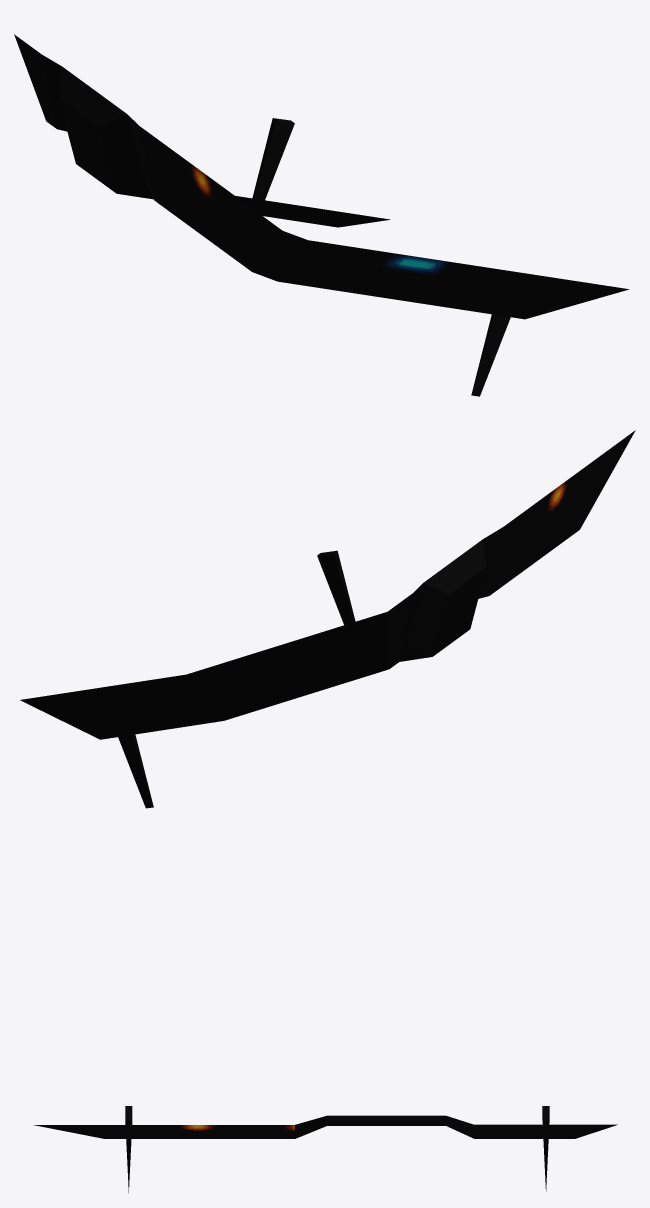
File: hangar_hgn_battlecruiser_01_basic_01_right.glb
3 renders of one model, top to bottom at view 1: azimuth 30°, elevation 25°; view 2: azimuth 150°, elevation 25°; view 3: azimuth 270°, elevation 25°, orthographic. The views are drawn at different scales.
Parts seen in each view (by area): view 1: hgn_t1_flagship_battlecruiser_hangar_s_r_01; view 2: hgn_t1_flagship_battlecruiser_hangar_s_r_01; view 3: hgn_t1_flagship_battlecruiser_hangar_s_r_01.
Part boxes in pixels (<box>): hgn_t1_flagship_battlecruiser_hangar_s_r_01: <box>14,34,628,396</box>; hgn_t1_flagship_battlecruiser_hangar_s_r_01: <box>20,430,635,808</box>; hgn_t1_flagship_battlecruiser_hangar_s_r_01: <box>34,1106,617,1192</box>.
Bounding box in the file's own units: 0.7179 × 0.4998 × 1.15.
Materials: 1 (1 with a texture image).
